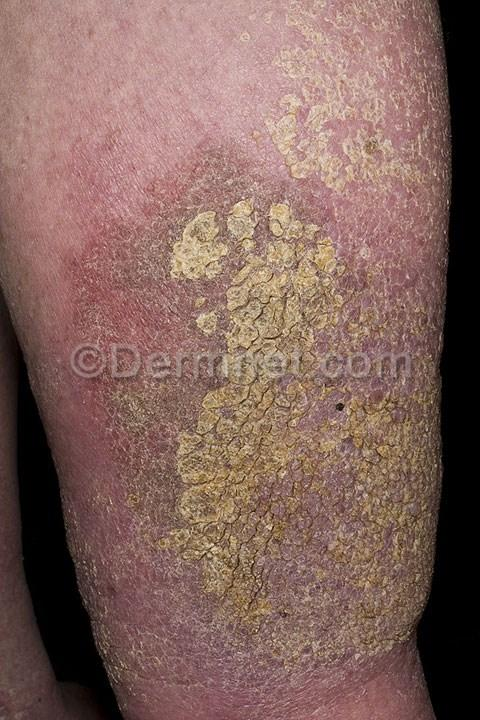Eczema: (56, 371, 447, 688), (20, 124, 350, 346), (318, 10, 467, 346), (207, 0, 325, 128)
